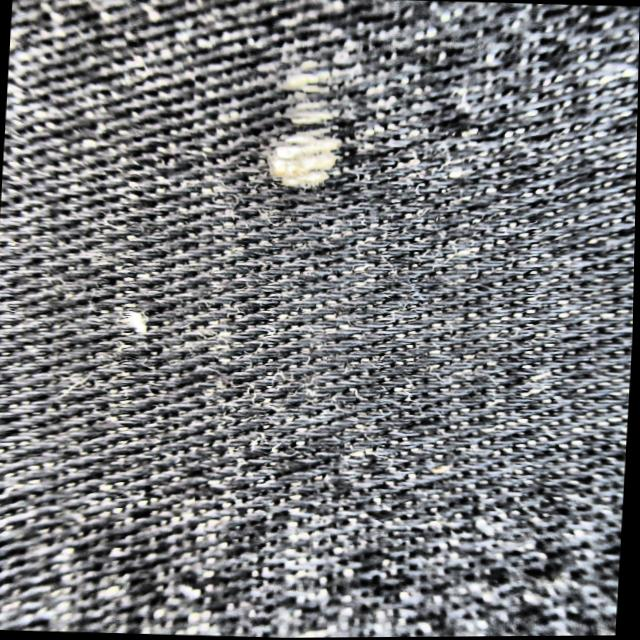Hole: (266, 72, 339, 188), (115, 298, 150, 339)
